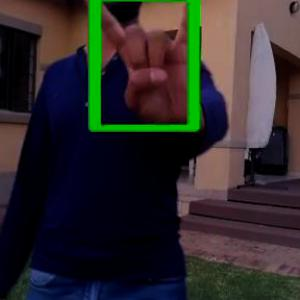takeoff-hand: (72, 0, 207, 139)
